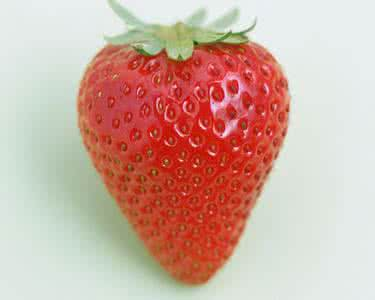strawberry: (75, 5, 293, 286)
